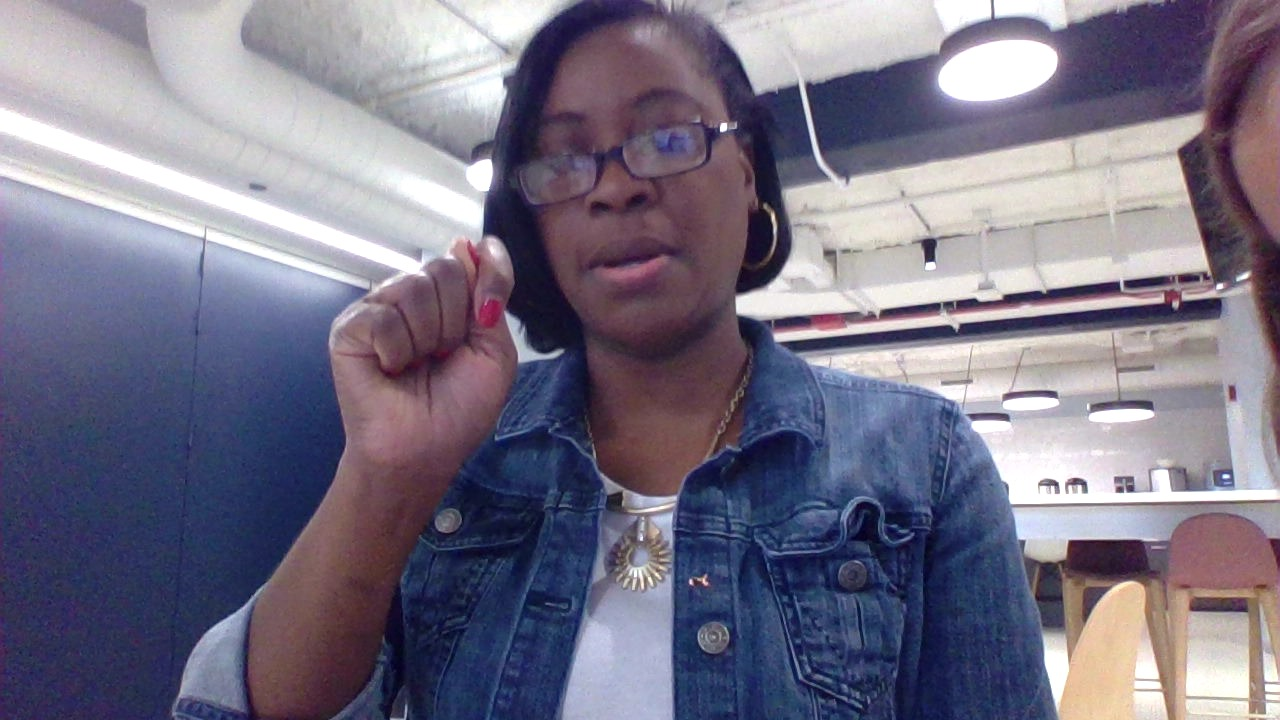t: (297, 218, 542, 505)
